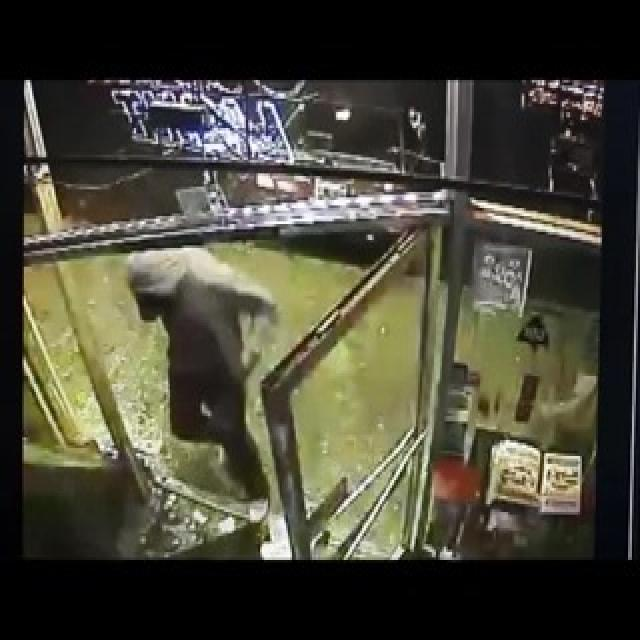thief: (119, 230, 231, 380)
